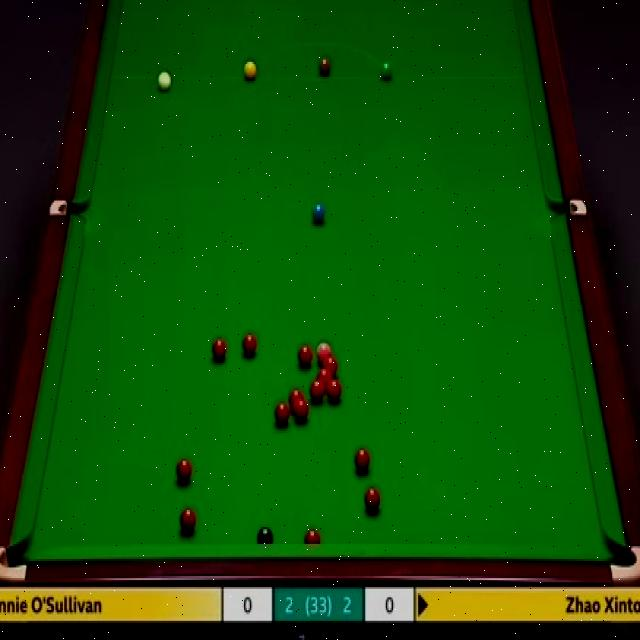black-ball: (256, 525, 274, 546)
blue-ball: (311, 203, 325, 226)
brown-ball: (319, 59, 331, 79)
green-ball: (379, 60, 396, 81)
pink-ball: (315, 339, 332, 358)
red-ball: (180, 506, 198, 536), (272, 400, 290, 427), (354, 448, 371, 476), (364, 484, 381, 512), (176, 456, 192, 484), (241, 332, 258, 357), (293, 398, 310, 423), (211, 336, 227, 361), (311, 380, 327, 404), (304, 526, 322, 546), (298, 343, 312, 366), (327, 381, 342, 401), (321, 357, 338, 373), (288, 388, 304, 403), (317, 368, 332, 381)
white-ball: (157, 70, 172, 96)
yellow-ball: (244, 59, 258, 80)
